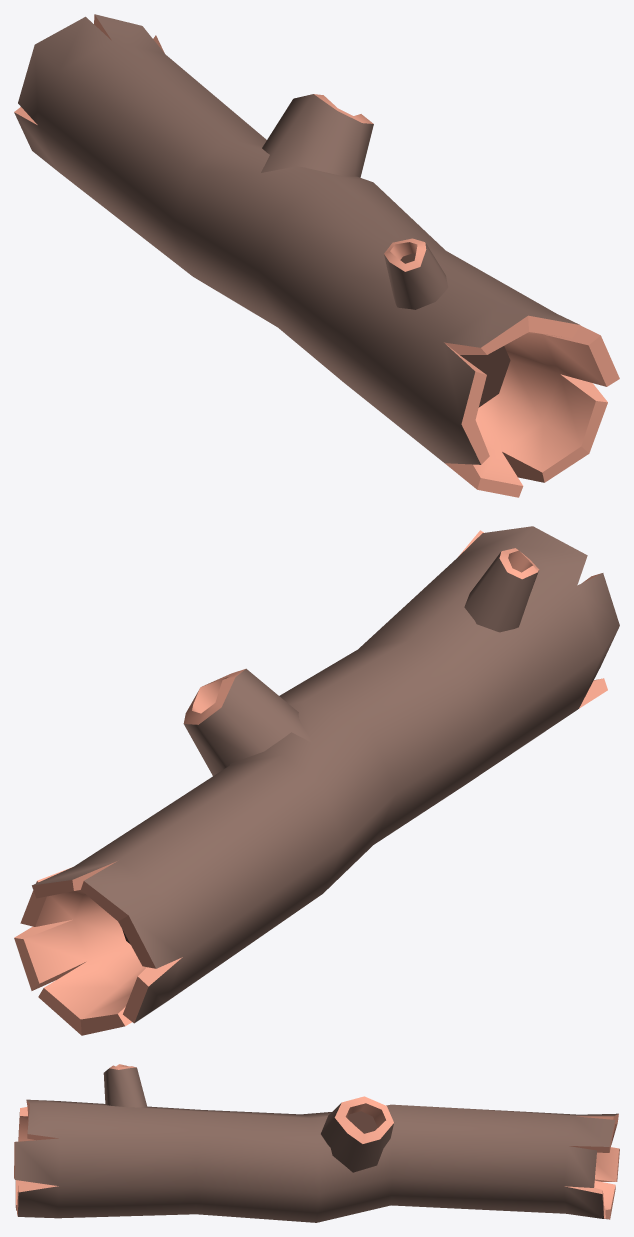
Rendered from deadwood_025.glb.
3 renders of one model, top to bottom at view 1: azimuth 30°, elevation 25°; view 2: azimuth 150°, elevation 25°; view 3: azimuth 270°, elevation 25°, orthographic. The views are drawn at different scales.
Visible parts, largest first — view 1: deadwood_025; view 2: deadwood_025; view 3: deadwood_025.
Part boxes in pixels (box(x1,y1,x2,y2)): deadwood_025: box(14, 14, 619, 497); deadwood_025: box(14, 526, 619, 1035); deadwood_025: box(14, 1064, 619, 1222).
Size of the model in its own units: 0.9533 by 1.09 by 4.34.
1 material, 1 textured.
